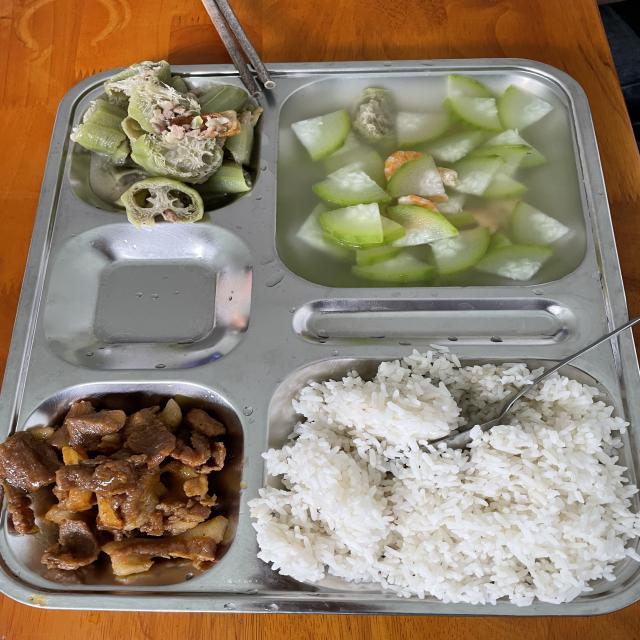canh bau: (274, 75, 586, 287)
com: (249, 350, 640, 606)
kho tieu: (0, 399, 229, 574)
